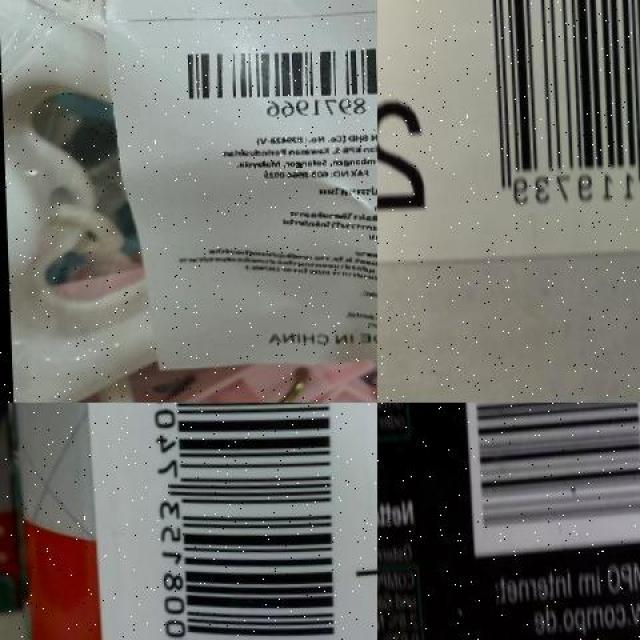Barcode: (133, 402, 351, 640), (448, 0, 640, 229), (446, 402, 640, 560), (163, 34, 377, 126)
